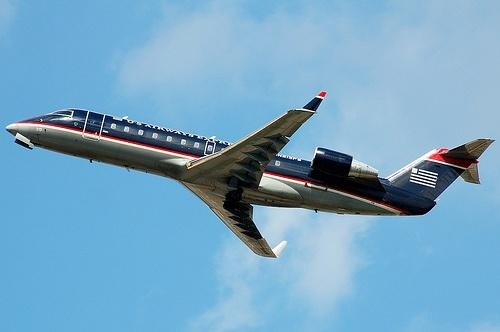aeroplane: (5, 90, 497, 260)
